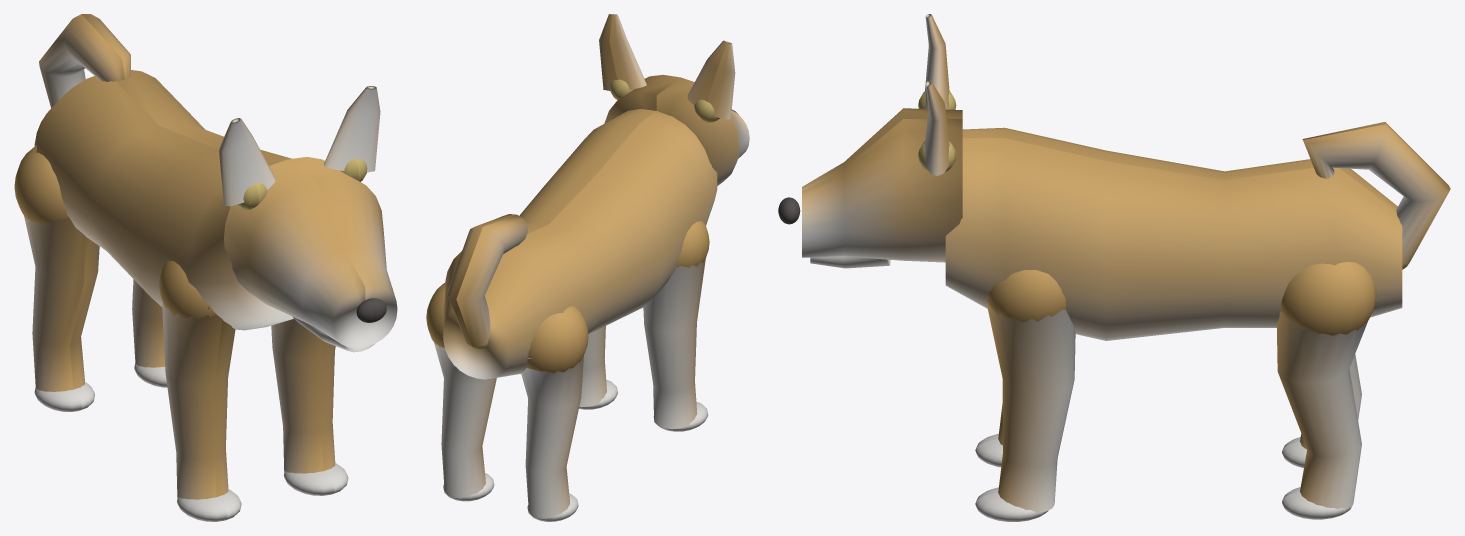
The model's file is dog.glb.
3 views of the same model, side by side, from view 1: azimuth 30°, elevation 25°; view 2: azimuth 150°, elevation 25°; view 3: azimuth 270°, elevation 25° (orthographic). The views are drawn at different scales.
Visible parts, largest first — view 1: Body, Head, Leg_FL, Leg_RL, Leg_FR, Tail, Ear_L, Ear_R, Leg_RR, Jaw; view 2: Body, Leg_RL, Leg_FL, Leg_RR, Tail, Head, Ear_L, Ear_R, Leg_FR; view 3: Body, Head, Leg_RR, Leg_FR, Tail, Ear_R, Ear_L, Leg_RL, Leg_FL, Jaw.
Boxes of the visible parts, x1,y1,x2,y2 form: Body: [34, 70, 293, 330]; Head: [223, 157, 397, 348]; Leg_FL: [159, 260, 241, 521]; Leg_RL: [14, 145, 99, 411]; Leg_FR: [271, 319, 348, 495]; Tail: [39, 14, 130, 108]; Ear_L: [219, 118, 275, 209]; Ear_R: [324, 86, 380, 181]; Leg_RR: [132, 279, 167, 387]; Jaw: [293, 317, 375, 352]; Body: [443, 109, 717, 379]; Leg_RL: [521, 306, 588, 521]; Leg_FL: [643, 221, 709, 431]; Leg_RR: [426, 283, 496, 501]; Tail: [447, 214, 527, 350]; Head: [604, 74, 749, 185]; Ear_L: [687, 40, 735, 122]; Ear_R: [599, 14, 646, 100]; Leg_FR: [579, 326, 617, 409]; Body: [945, 127, 1402, 340]; Head: [778, 108, 962, 262]; Leg_RR: [1276, 262, 1376, 519]; Leg_FR: [975, 270, 1075, 521]; Tail: [1302, 122, 1450, 269]; Ear_R: [918, 80, 956, 175]; Ear_L: [918, 14, 956, 109]; Leg_RL: [1282, 354, 1361, 468]; Leg_FL: [975, 404, 1002, 467]; Jaw: [810, 256, 890, 268].
Size of the model in its own units: 0.497 by 1.15 by 1.59.
